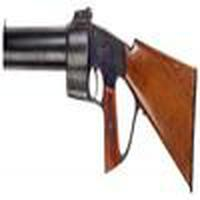gun: (1, 15, 193, 148)
